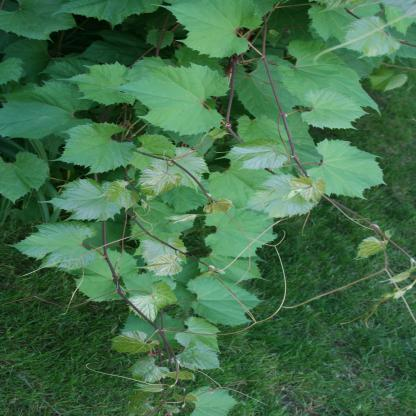grape leaf: (113, 60, 234, 135), (279, 40, 381, 111), (155, 0, 262, 58), (297, 139, 391, 203), (0, 80, 91, 140), (44, 122, 142, 174), (8, 222, 98, 275), (205, 205, 284, 258), (187, 276, 266, 328), (31, 179, 120, 221), (297, 89, 373, 131), (126, 281, 178, 329), (112, 329, 159, 359)
